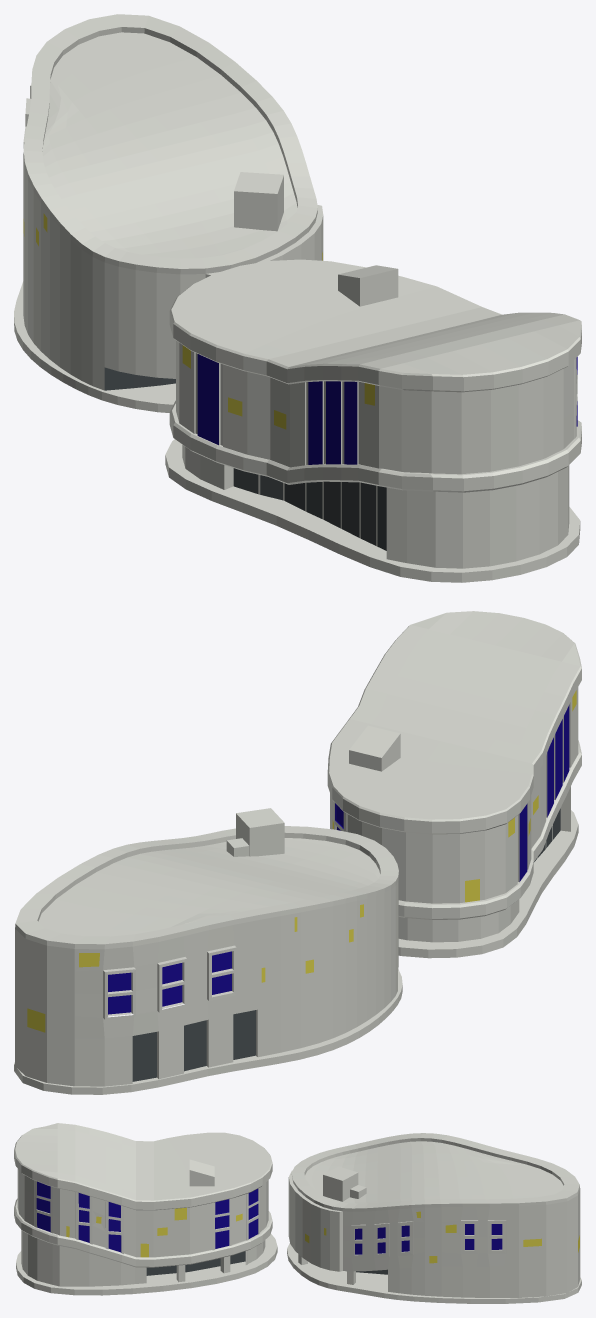
File: Mudbuliding.fbx
3 views of the same model, one above another, from view 1: azimuth 30°, elevation 25°; view 2: azimuth 150°, elevation 25°; view 3: azimuth 270°, elevation 25° (orthographic). The views are drawn at different scales.
Parts seen in each view (by area): view 1: Plane.003, Cube.006; view 2: Cube.006, Plane.003; view 3: Cube.006, Plane.003.
Boxes of the visible parts, box(x1,y1,x2,y2) form: Plane.003: box(165, 259, 581, 582); Cube.006: box(14, 14, 323, 412); Cube.006: box(14, 808, 402, 1094); Plane.003: box(327, 611, 581, 958); Cube.006: box(287, 1133, 581, 1303); Plane.003: box(14, 1123, 277, 1295).
Bounding box in the file's own units: 34.64 × 23.19 × 101.
